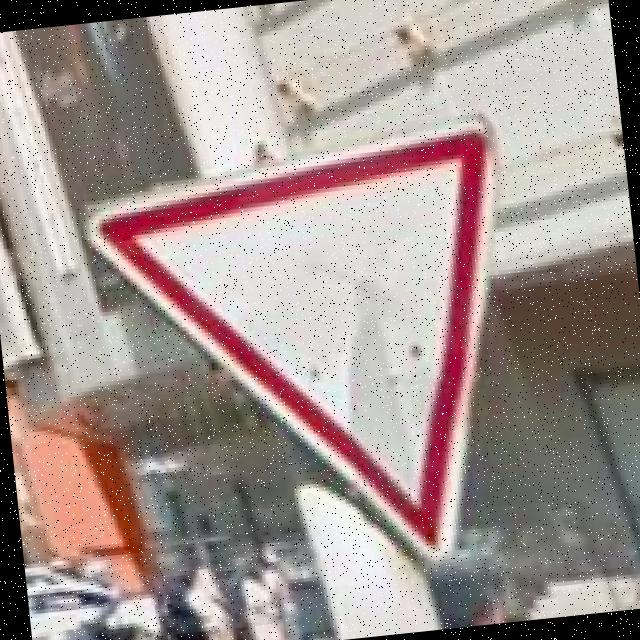Ustap pierwszenstwa: (76, 112, 544, 600)
